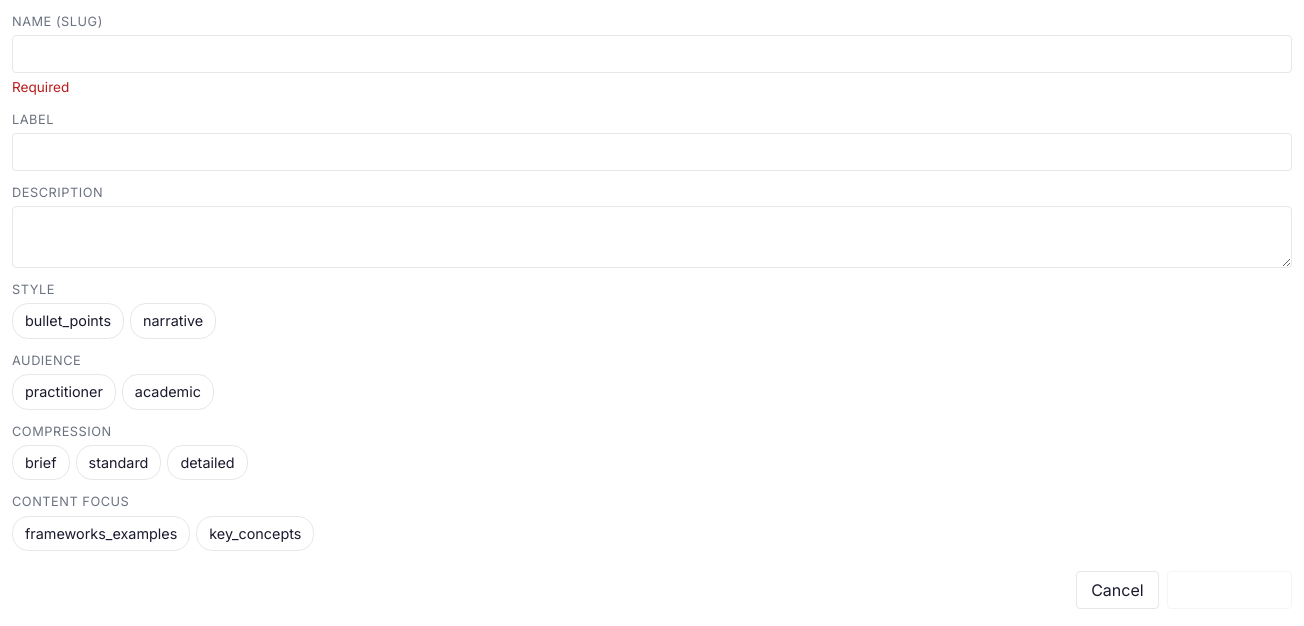
PresetCreateEditForm › disables Save when name has invalid chars and shows error text
Type "Invalid Name!" into the field named "name" at (652, 54), box 12,35 -> 1292,73
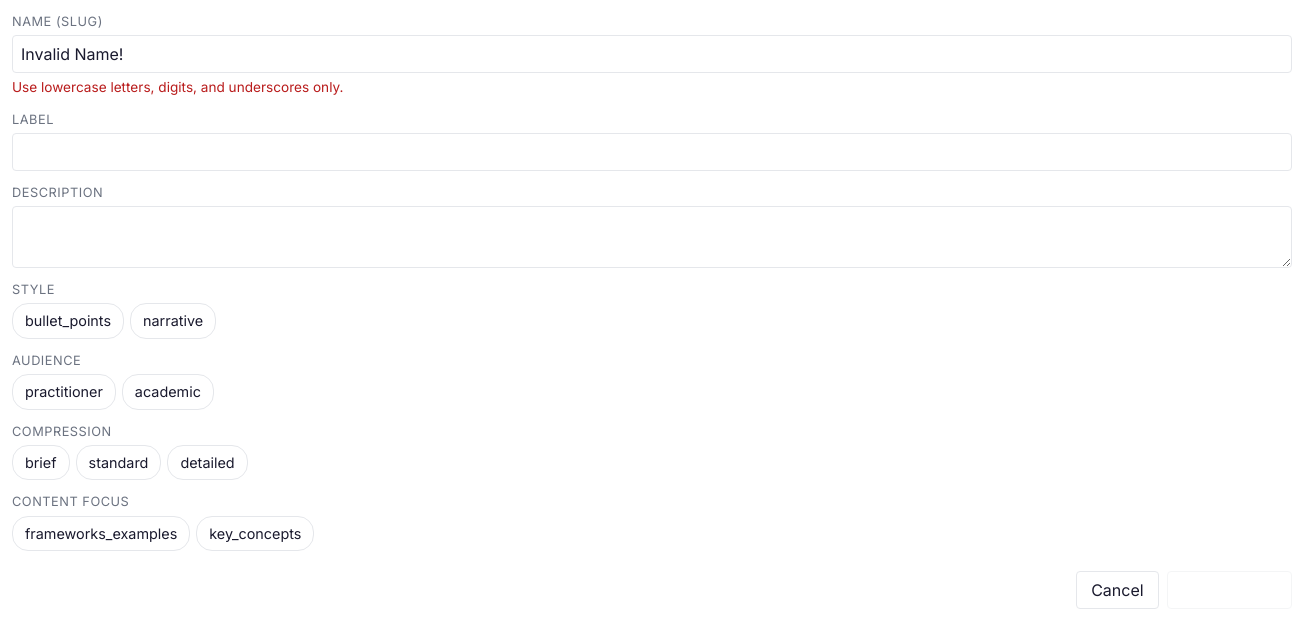
Expected: the text "Use lowercase letters, digits, and underscores only." is shown, 12,79 -> 344,95
